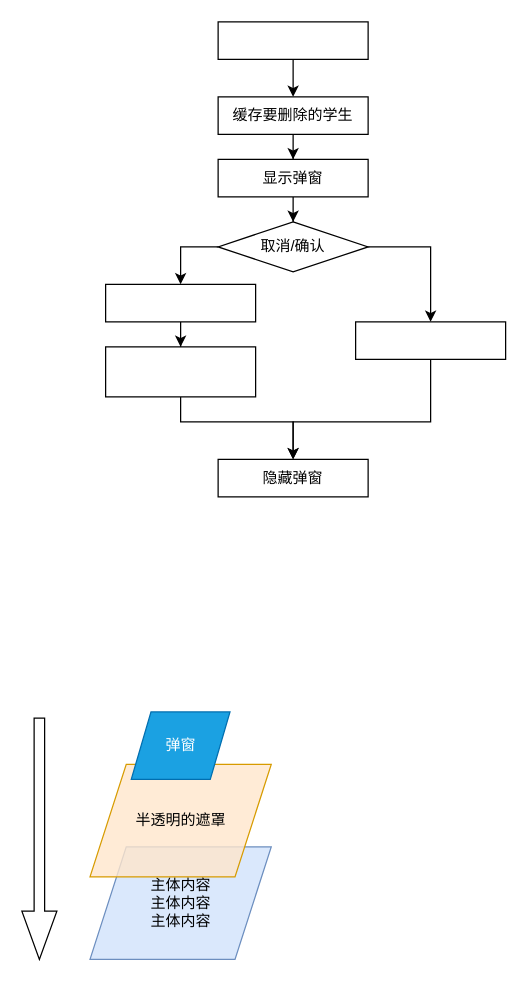
This 528x981 diagram has some shape labels left out. Here are the shapes that lost their labels. From the top down, the centre of each, then its label:
At pixel 292 40: "点击删除按钮".
At pixel 180 302: "确认".
At pixel 430 340: "取消".
At pixel 180 371: "调用M层方法，完成删除操作".
